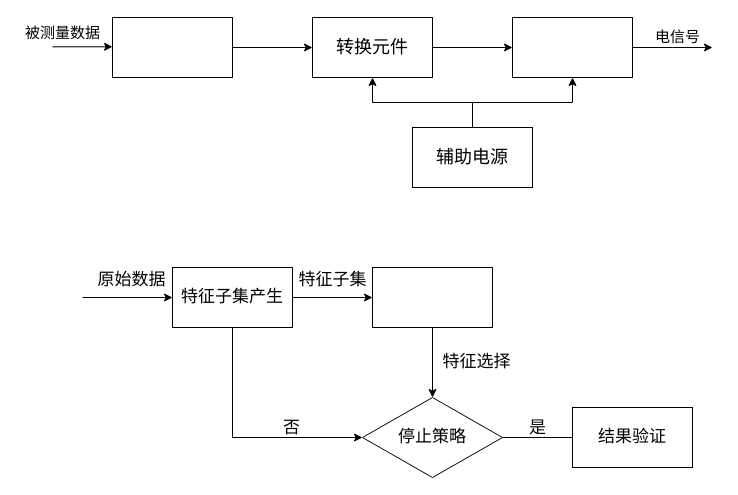
This 738x495 diagram has some shape labels left out. Here are the shapes that lost their labels. From the top down, the centre of each, then its label:
[172,47]: 敏感元件
[572,47]: 变化电路
[432,297]: 子集评价
